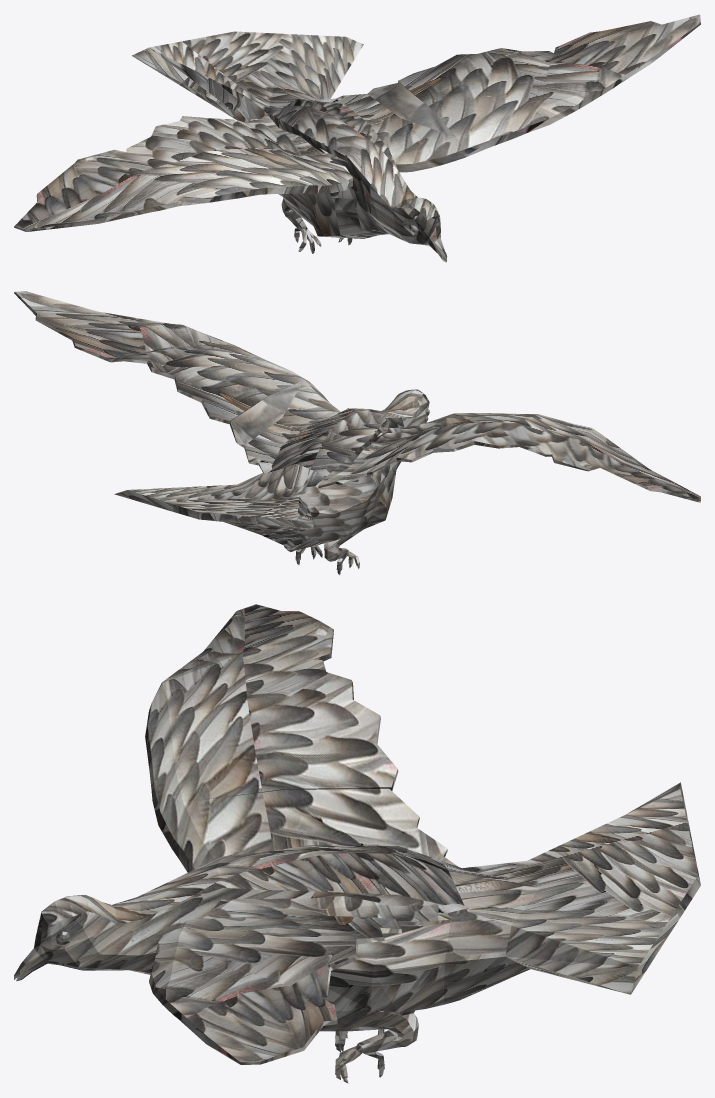
File: pigeon3.gltf
3 renders of one model, top to bottom at view 1: azimuth 30°, elevation 25°; view 2: azimuth 150°, elevation 25°; view 3: azimuth 270°, elevation 25°, orthographic. The views are drawn at different scales.
Visible parts, largest first — view 1: flying, flying.001, flying.002; view 2: flying, flying.001, flying.002; view 3: flying, flying.002, flying.001.
Part boxes in pixels (x1,y1,x2,y2): flying: (132,31,447,262); flying.001: (316,14,700,172); flying.002: (14,115,352,231); flying: (114,389,429,575); flying.001: (14,291,389,473); flying.002: (318,413,700,502); flying: (14,782,700,1083); flying.002: (145,604,458,907); flying.001: (149,896,468,1064).
Bounding box in the file's own units: 10.84 × 2.57 × 5.98.
Materials: 3 (3 with a texture image).
